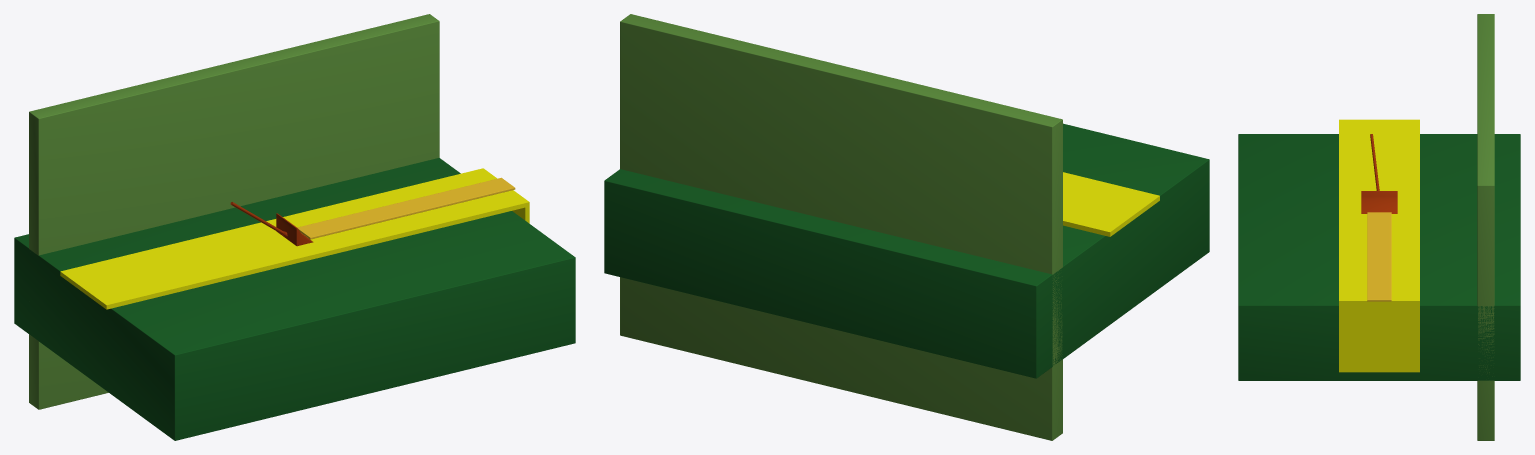
The model's file is Roll-Up Object (Aimated)&Plane.fbx.
The picture shows the model from 3 angles, left to right: view 1: azimuth 30°, elevation 25°; view 2: azimuth 150°, elevation 25°; view 3: azimuth 270°, elevation 25°; orthographic projection. The views are drawn at different scales.
Visible parts, largest first — view 1: Cube.001, Cube.002, Plane.001, Plane; view 2: Cube.002, Cube.001, Plane.001; view 3: Cube.001, Plane.001, Cube.002, Plane, Cube.
Part boxes in pixels (x1=…): Cube.001: x1=14, y1=157, x2=575, y2=440; Cube.002: x1=29, y1=14, x2=439, y2=409; Plane.001: x1=60, y1=168, x2=529, y2=309; Plane: x1=297, y1=177, x2=515, y2=239; Cube.002: x1=620, y1=14, x2=1062, y2=440; Cube.001: x1=604, y1=123, x2=1209, y2=378; Plane.001: x1=1063, y1=172, x2=1159, y2=236; Cube.001: x1=1238, y1=134, x2=1520, y2=380; Plane.001: x1=1339, y1=119, x2=1419, y2=372; Cube.002: x1=1477, y1=14, x2=1494, y2=440; Plane: x1=1367, y1=212, x2=1391, y2=301; Cube: x1=1361, y1=191, x2=1397, y2=213.
Size of the model in its own units: 4974 by 3258 by 3258.
